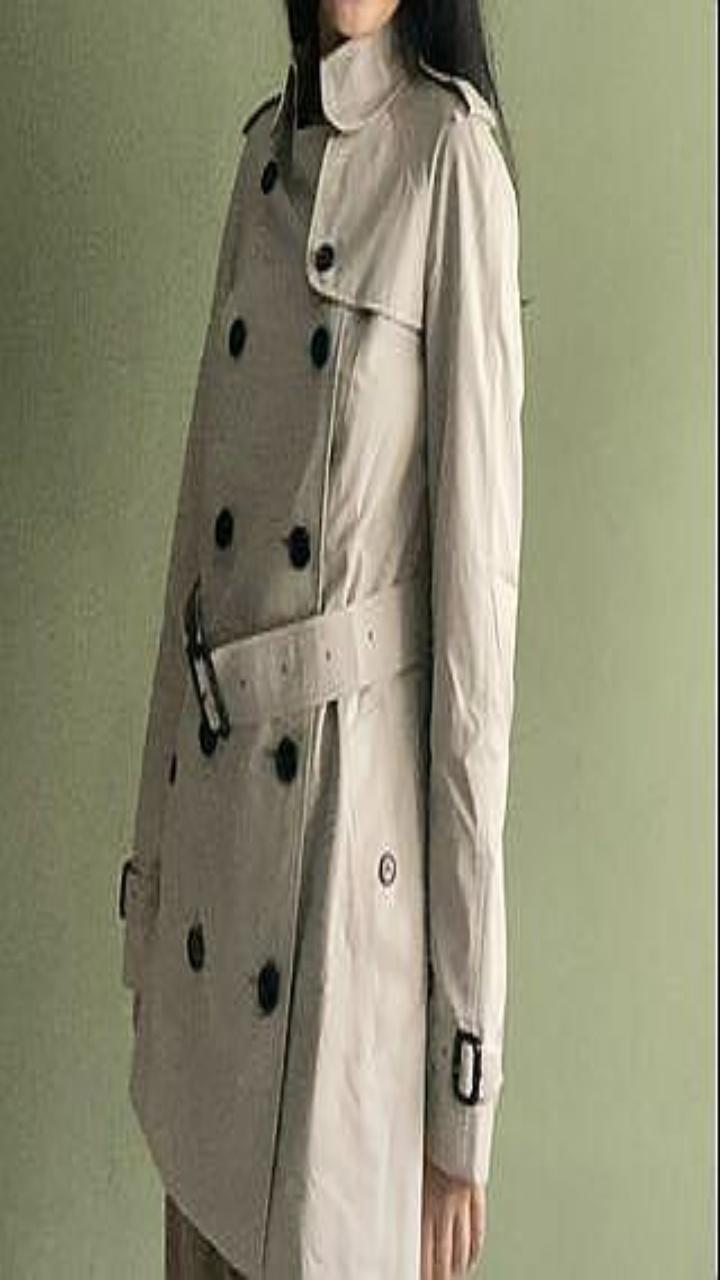Coat: (119, 20, 523, 1279)
